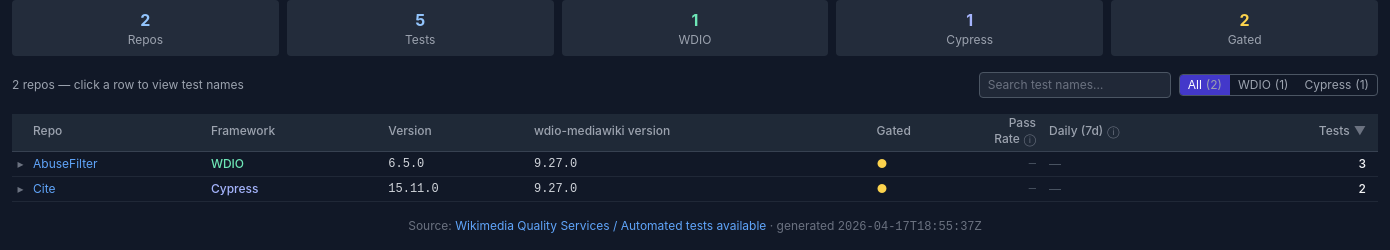
AutomatedTestsPanel – integration contract tests › successful fetch › framework toggle is still honoured when a steward filter is active
# Both AbuseFilter (wdio) and Cite (cypress) belong to Performance.
Step 1. Click the button "Cypress(1)" → (1337, 85), box [1296,75,1377,95]
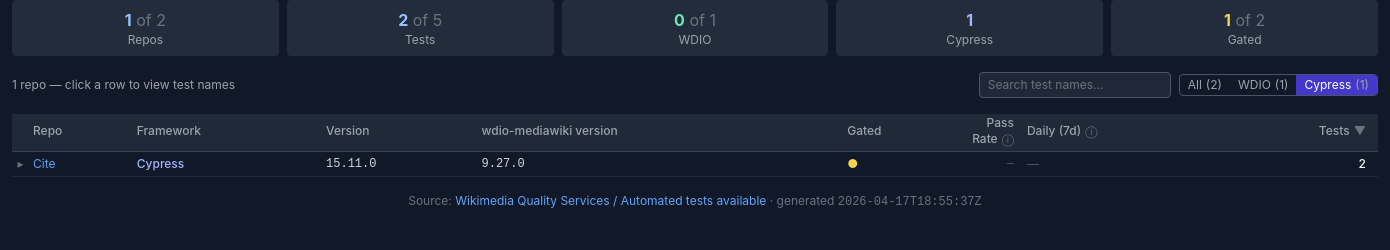
Expected: the text "Cite" is shown, [33,156,56,171]
Now the text "AbuseFilter" is gone
